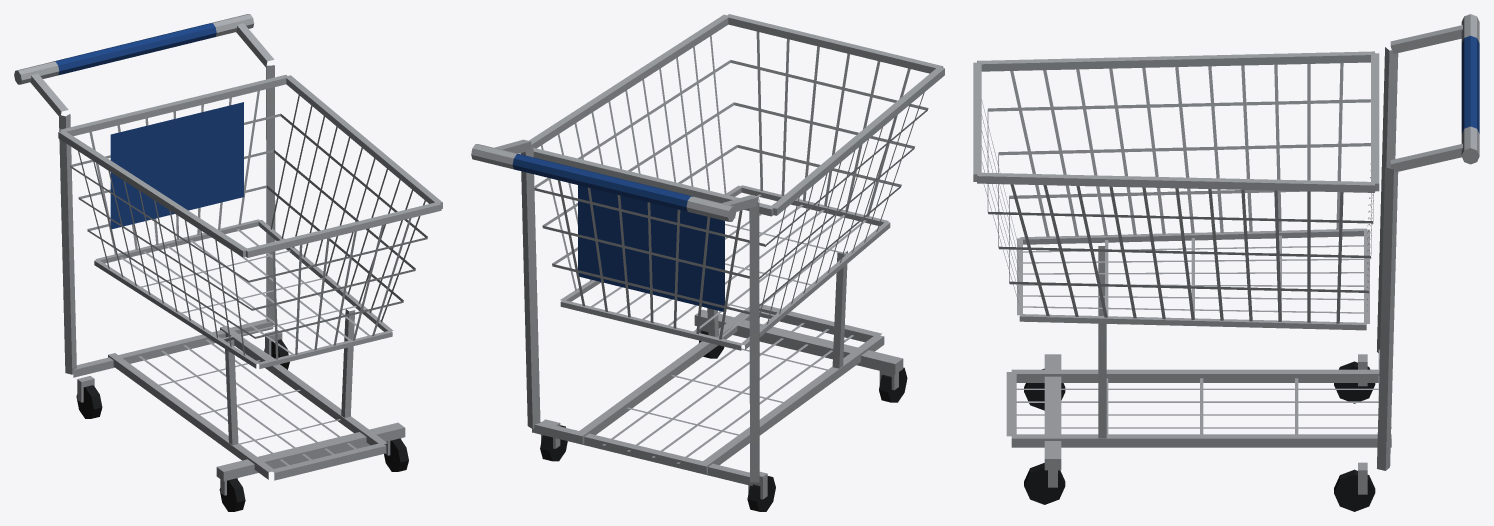
File: shop.cart.blue.glb
The picture shows the model from 3 angles, left to right: view 1: azimuth 30°, elevation 25°; view 2: azimuth 150°, elevation 25°; view 3: azimuth 270°, elevation 25°; orthographic projection. The views are drawn at different scales.
Visible parts, largest first — view 1: shop_cart_blue; view 2: shop_cart_blue; view 3: shop_cart_blue.
Part boxes in pixels (x1,y1,x2,y2): shop_cart_blue: [14, 14, 442, 511]; shop_cart_blue: [471, 14, 944, 511]; shop_cart_blue: [973, 14, 1479, 511].
Size of what is drawn, in the model's own units: 0.768 by 1 by 1.23.
